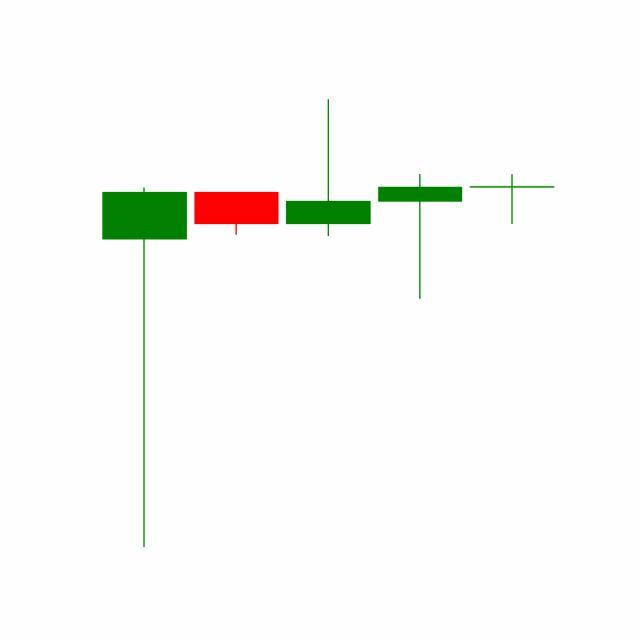Dragonfly Doji: (466, 174, 559, 226)
